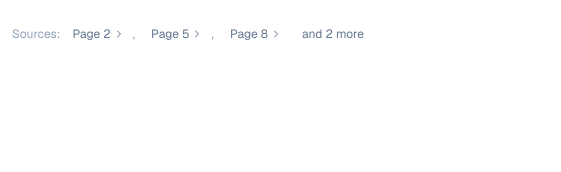
Scenario: SourceCitationList › AC-5.4.4: Expandable sources for many citations › collapses when "(show less)" clicked
This screenshot has width=561, height=172.
// Expand then collapse
Click the button "and 2 more" at (333, 34), box [294,12,372,56]
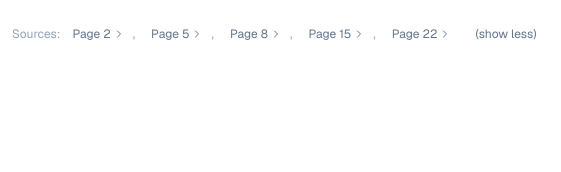
Click the button with aria-label "fewer sources" at (506, 34), box [467,12,544,56]
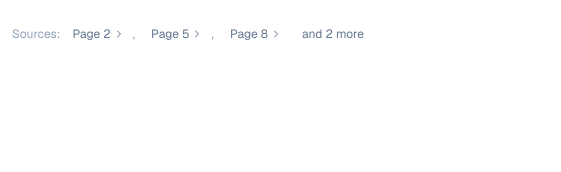
Expected: the button "and 2 more" is shown, [294,12,372,56]
